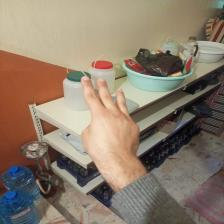five: (82, 73, 143, 163)
